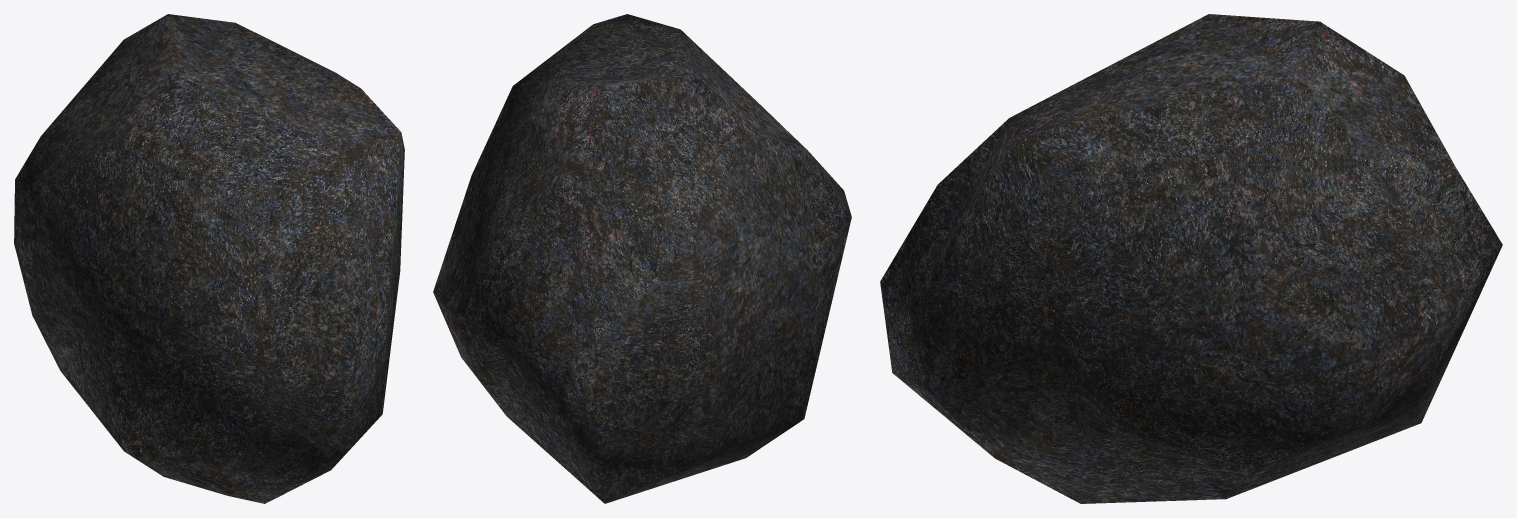
The model's file is asteroid_metal_radial_s02_l1.fbx.
The picture shows the model from 3 angles, left to right: view 1: azimuth 30°, elevation 25°; view 2: azimuth 150°, elevation 25°; view 3: azimuth 270°, elevation 25°; orthographic projection. The views are drawn at different scales.
Visible parts, largest first — view 1: mesh_node; view 2: mesh_node; view 3: mesh_node.
Boxes of the visible parts, left/top/right/bottom form: mesh_node: left=14, top=14, right=404, bottom=503; mesh_node: left=433, top=14, right=851, bottom=503; mesh_node: left=880, top=14, right=1502, bottom=503.
Size of the model in its own units: 2.91 by 3.96 by 4.61.
